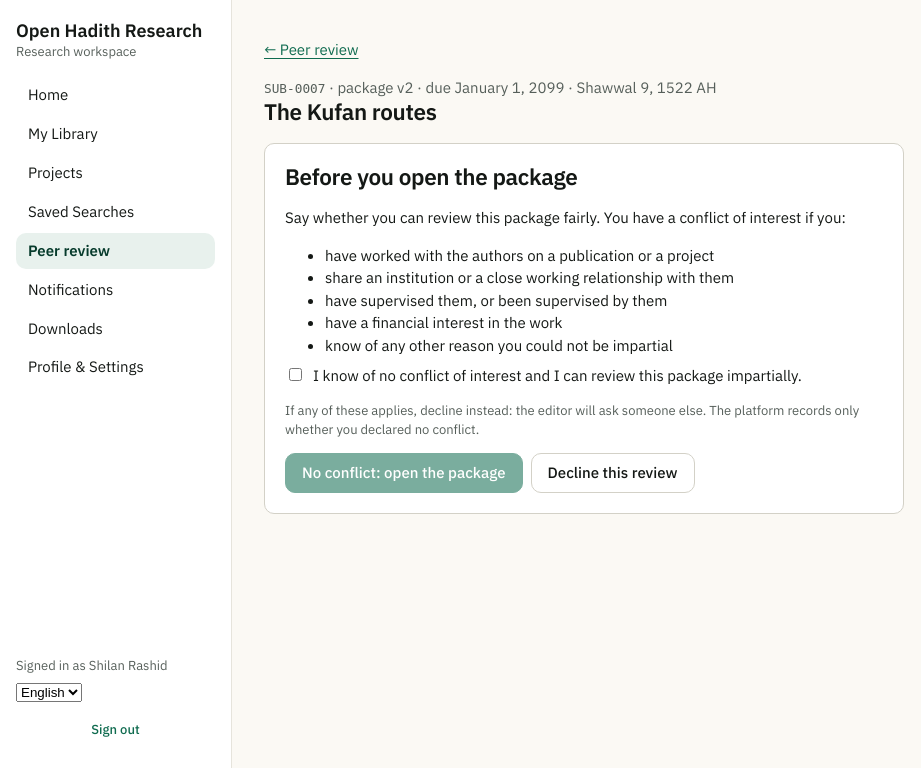
Peer review: the package › asks for a declaration of no conflict before showing anything of the package
The width and height of the screenshot is (921, 768).
Expected: the element "Before you open the package" is shown, [264,143,904,514]
Expected: the button "No conflict: open the package" is disabled, [285,453,522,493]
Step 1. Click the checkbox labelled "no conflict of interest" → (296, 375), box [289,368,302,381]
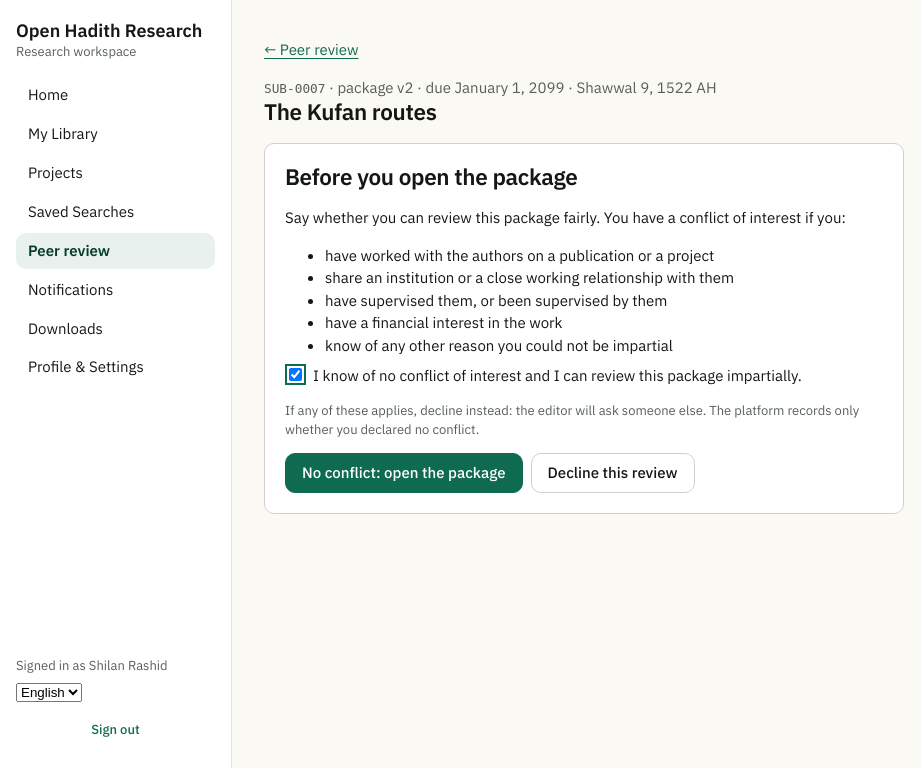
Expected: the button "No conflict: open the package" is enabled, [285,453,522,493]
